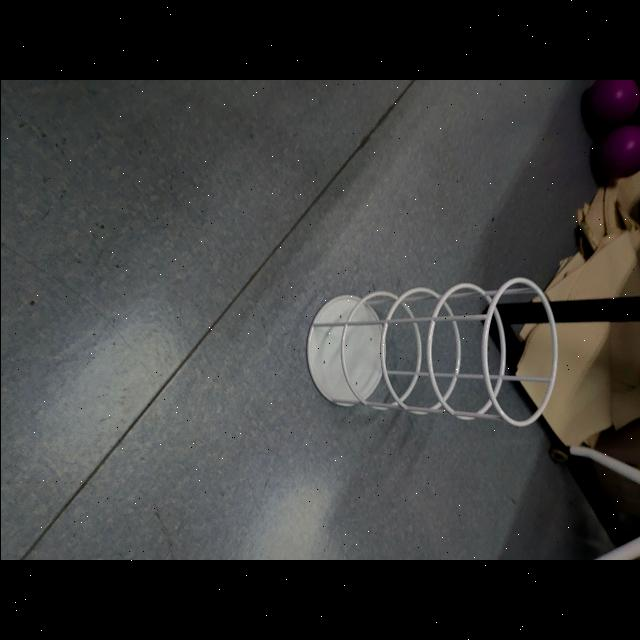S: (303, 276, 561, 430)
